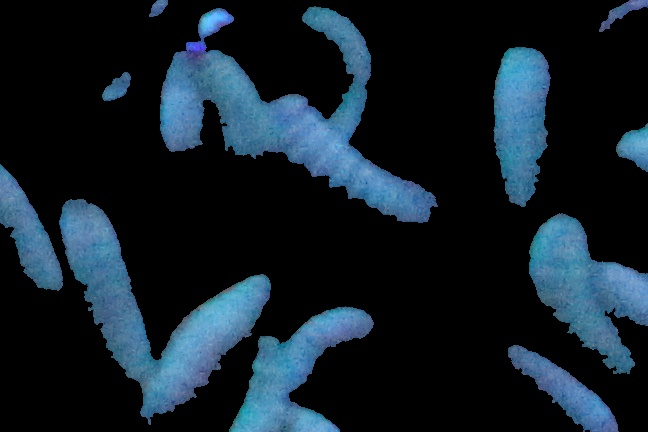larvae: (272, 94, 458, 235), (140, 274, 273, 425), (533, 216, 635, 394), (63, 200, 150, 384), (498, 338, 619, 432), (489, 44, 552, 215), (271, 307, 373, 401), (305, 3, 374, 139), (1, 158, 62, 307), (209, 51, 268, 193), (229, 337, 294, 432), (157, 55, 206, 163), (589, 257, 648, 324)
